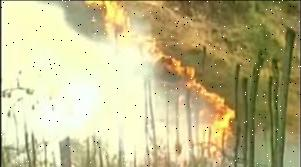fire: (171, 59, 235, 157), (82, 0, 167, 66)
